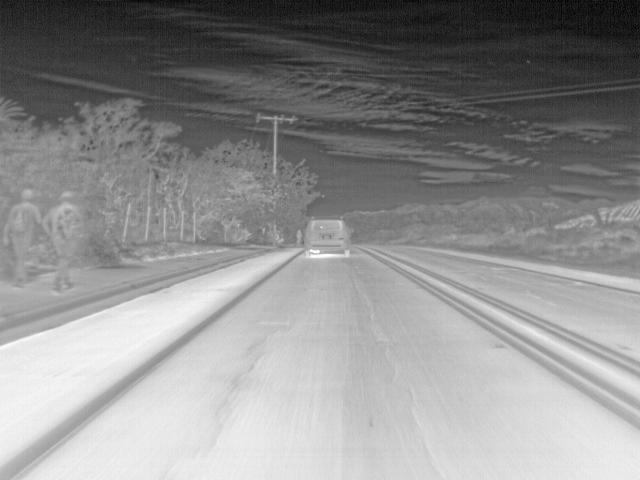car: (306, 218, 352, 254)
person: (7, 188, 42, 292), (51, 188, 81, 297), (292, 228, 304, 244)
